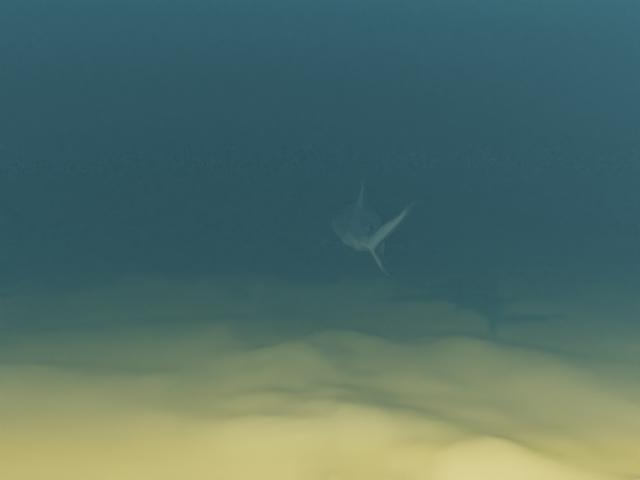Carribean Shark.001: (286, 175, 436, 279)
